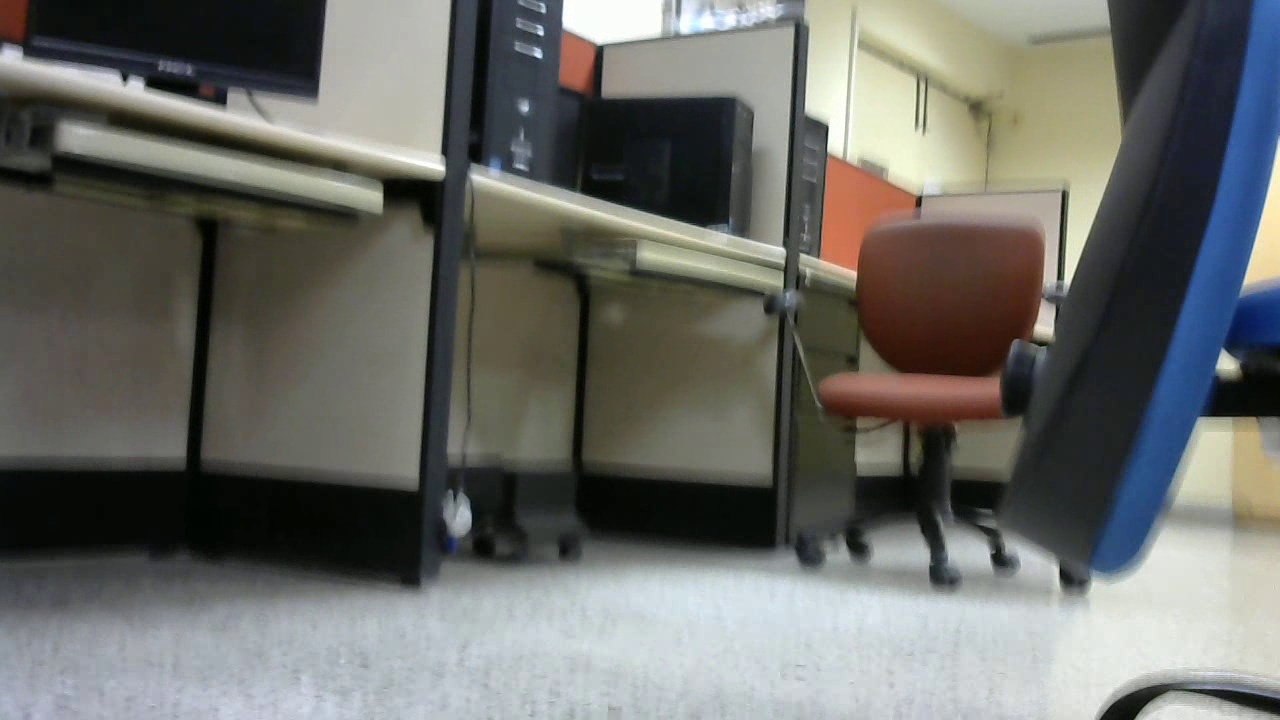chair: (761, 211, 1095, 602)
